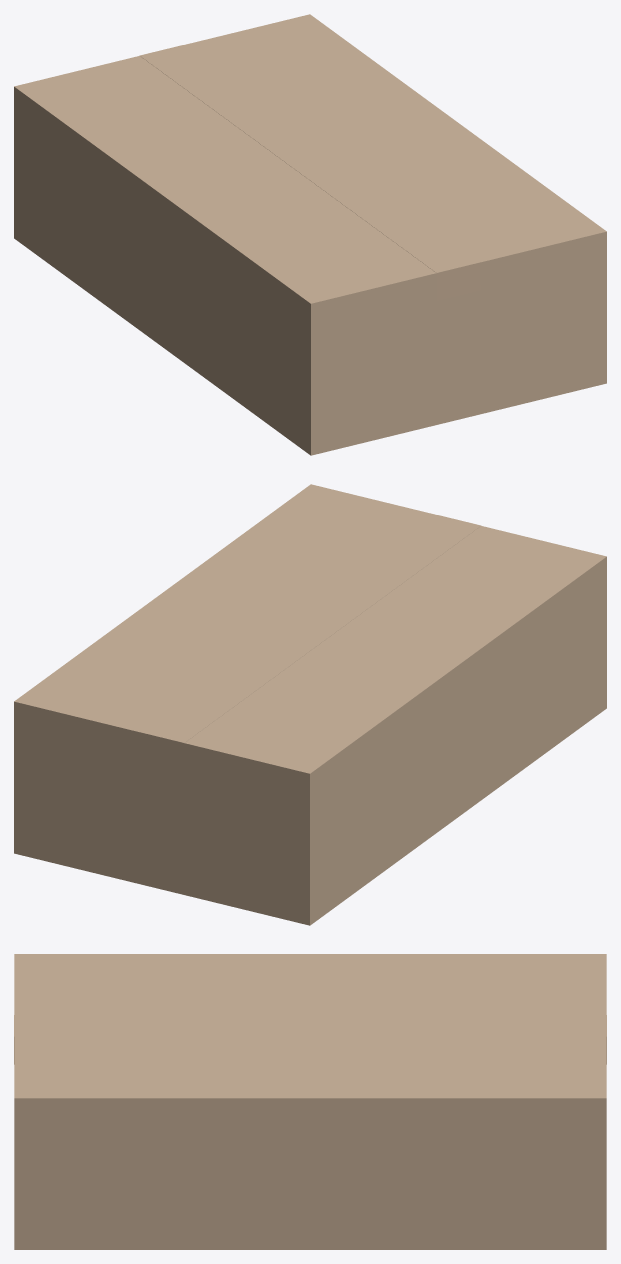
The model's file is boxLARGE.FBX.
3 renders of one model, top to bottom at view 1: azimuth 30°, elevation 25°; view 2: azimuth 150°, elevation 25°; view 3: azimuth 270°, elevation 25°, orthographic.
Parts seen in each view (by area): view 1: boxLARGE; view 2: boxLARGE; view 3: boxLARGE.
Part boxes in pixels (left/top/right/bottom): boxLARGE: left=14, top=14, right=606, bottom=455; boxLARGE: left=14, top=484, right=606, bottom=925; boxLARGE: left=14, top=954, right=606, bottom=1249.
Bounding box in the file's own units: 24.24 × 11.9 × 42.15.
